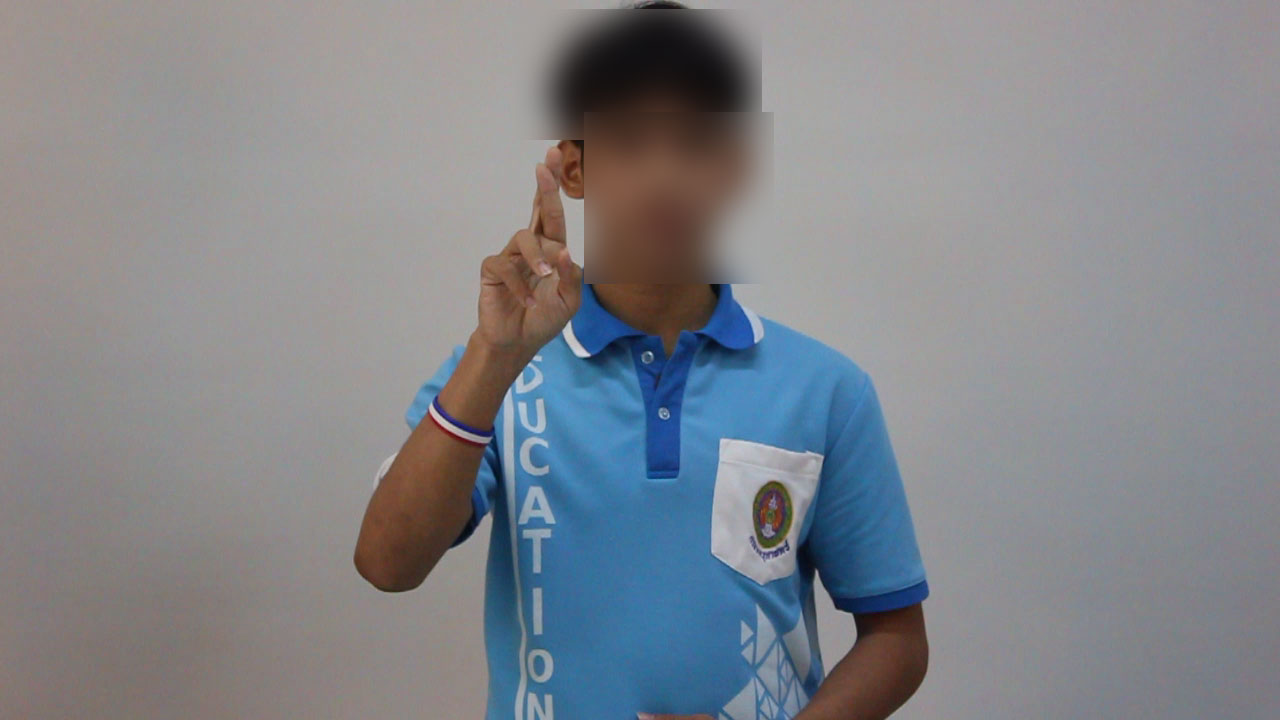rao: (451, 140, 588, 341)
